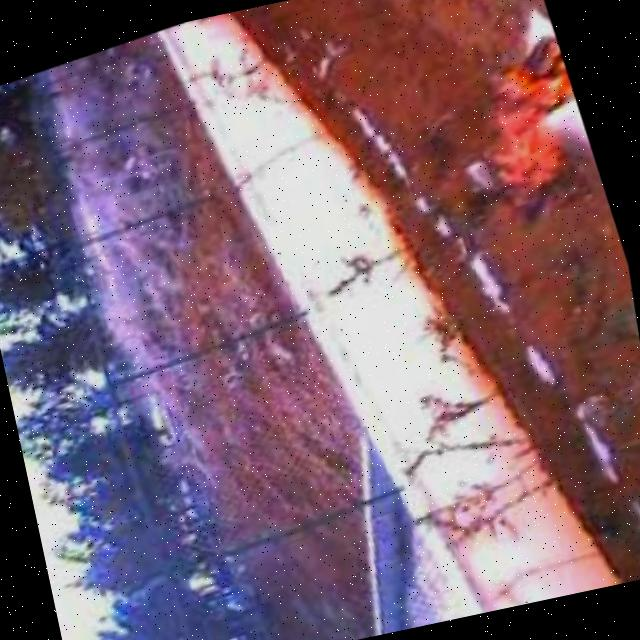fire: (444, 12, 608, 204)
